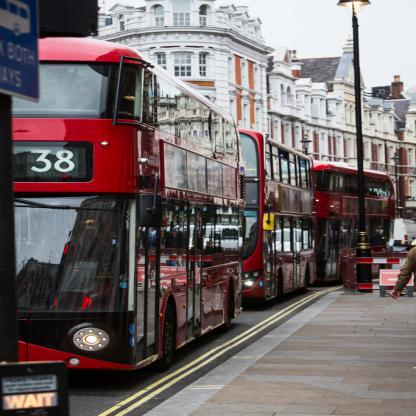Bus: (12, 36, 247, 370), (237, 129, 318, 302), (314, 160, 398, 284)
